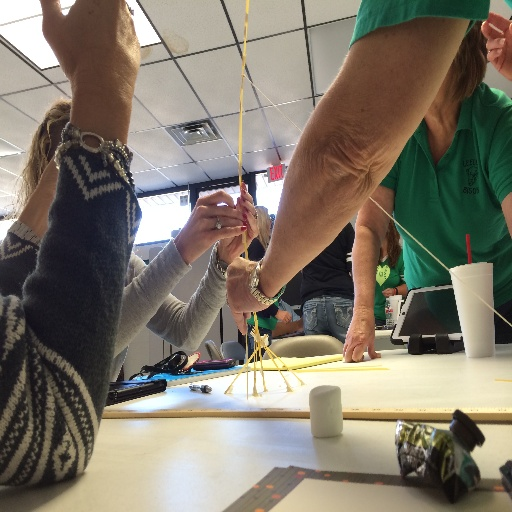hand: (38, 0, 140, 89), (170, 194, 239, 258), (224, 253, 272, 336), (217, 180, 259, 261), (480, 10, 511, 80), (341, 310, 380, 362), (39, 154, 58, 195), (274, 310, 291, 324), (294, 315, 303, 331), (381, 287, 395, 297)
